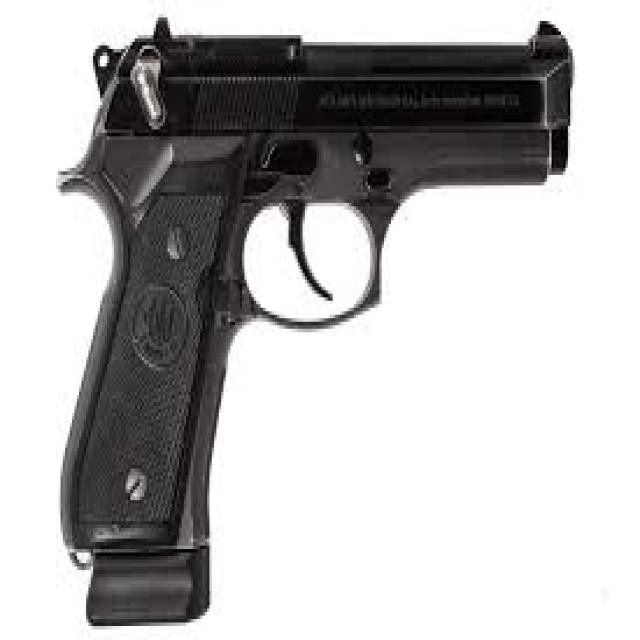pistol: (51, 12, 583, 640)
